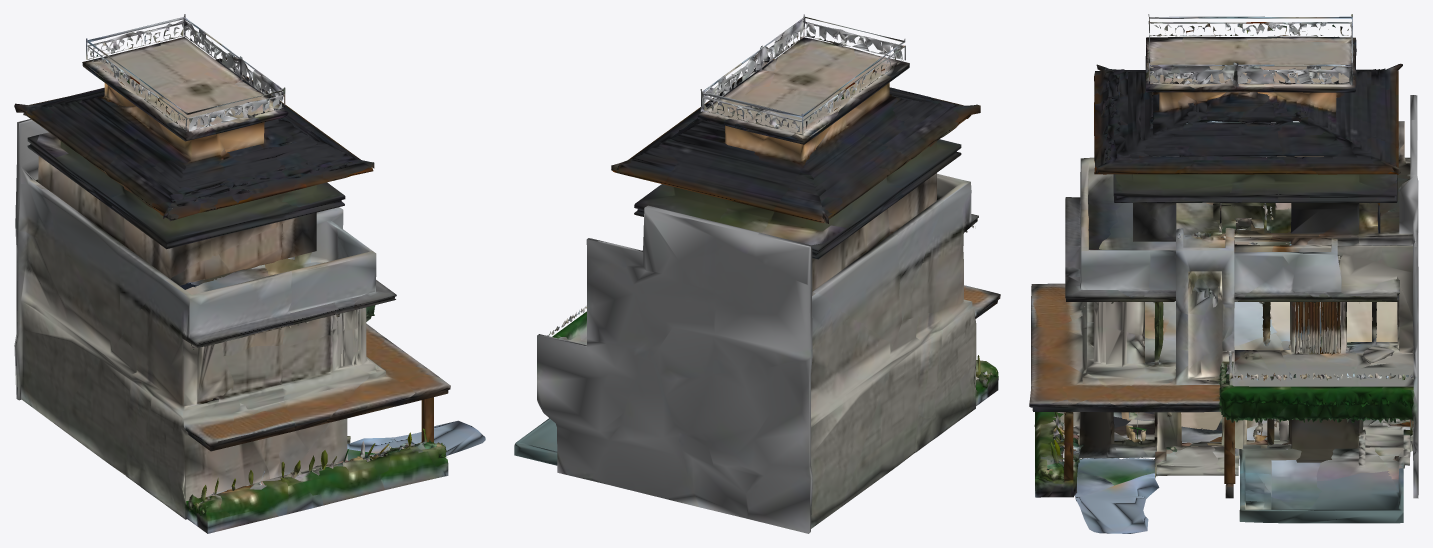
The model's file is house.glb.
The picture shows the model from 3 angles, left to right: view 1: azimuth 30°, elevation 25°; view 2: azimuth 150°, elevation 25°; view 3: azimuth 270°, elevation 25°; orthographic projection. The views are drawn at different scales.
Parts seen in each view (by area): view 1: tripo_node_fe661c3b-c96c-4225-aa5d-c9f7652b37a2; view 2: tripo_node_fe661c3b-c96c-4225-aa5d-c9f7652b37a2; view 3: tripo_node_fe661c3b-c96c-4225-aa5d-c9f7652b37a2.
Boxes of the visible parts, left/top/right/bottom form: tripo_node_fe661c3b-c96c-4225-aa5d-c9f7652b37a2: left=14, top=14, right=485, bottom=533; tripo_node_fe661c3b-c96c-4225-aa5d-c9f7652b37a2: left=514, top=14, right=1000, bottom=533; tripo_node_fe661c3b-c96c-4225-aa5d-c9f7652b37a2: left=1029, top=14, right=1418, bottom=533.
Bounding box in the file's own units: 0.9041 × 0.9998 × 0.9218.
Materials: 1 (1 with a texture image).
